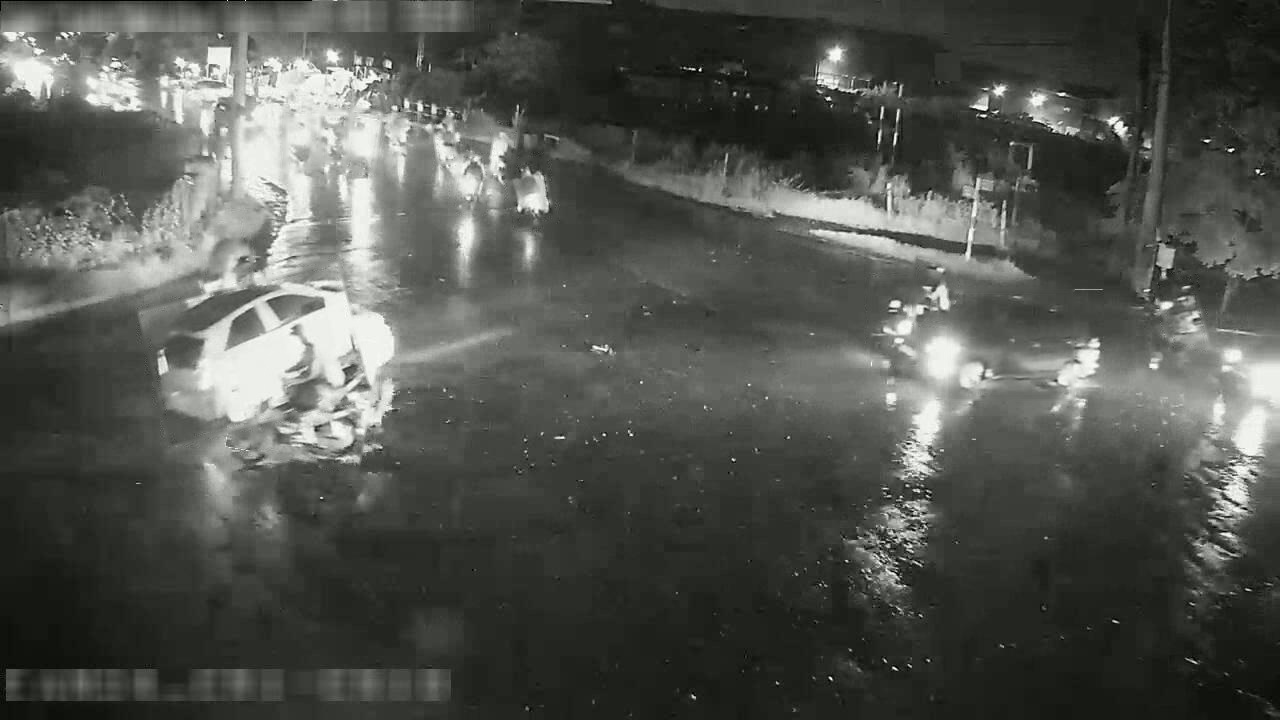Car: (154, 281, 358, 423), (944, 295, 1100, 387)
Motorcyclist: (225, 344, 388, 466), (200, 223, 255, 294), (872, 290, 921, 368), (1161, 284, 1205, 350), (909, 263, 951, 317), (513, 164, 551, 223), (346, 119, 378, 172), (456, 155, 487, 207), (288, 117, 318, 168), (489, 129, 516, 178), (320, 119, 346, 169), (434, 118, 456, 165)
